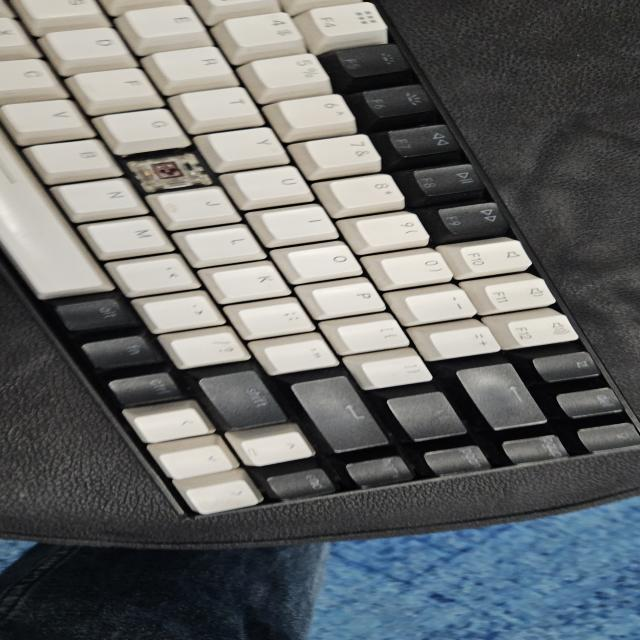C: (138, 157, 204, 187)
